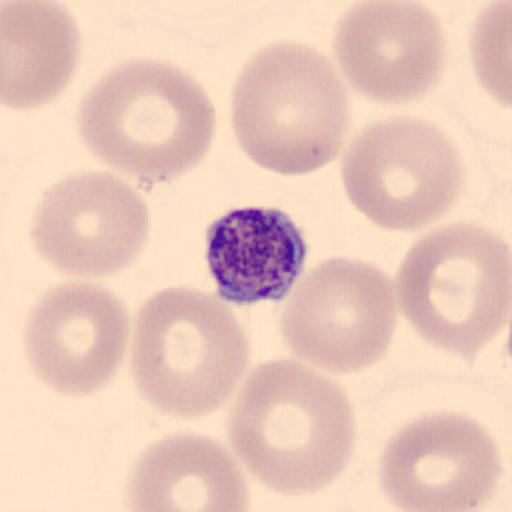Platelet: (203, 204, 312, 307)
RBC: (75, 56, 217, 188), (226, 356, 357, 499), (128, 282, 250, 422), (230, 38, 350, 178), (396, 221, 510, 359), (339, 112, 466, 234), (278, 254, 400, 376), (27, 168, 152, 282), (376, 409, 504, 512), (20, 278, 129, 398), (330, 0, 448, 107), (122, 430, 251, 512), (2, 0, 82, 114), (468, 0, 512, 113)
